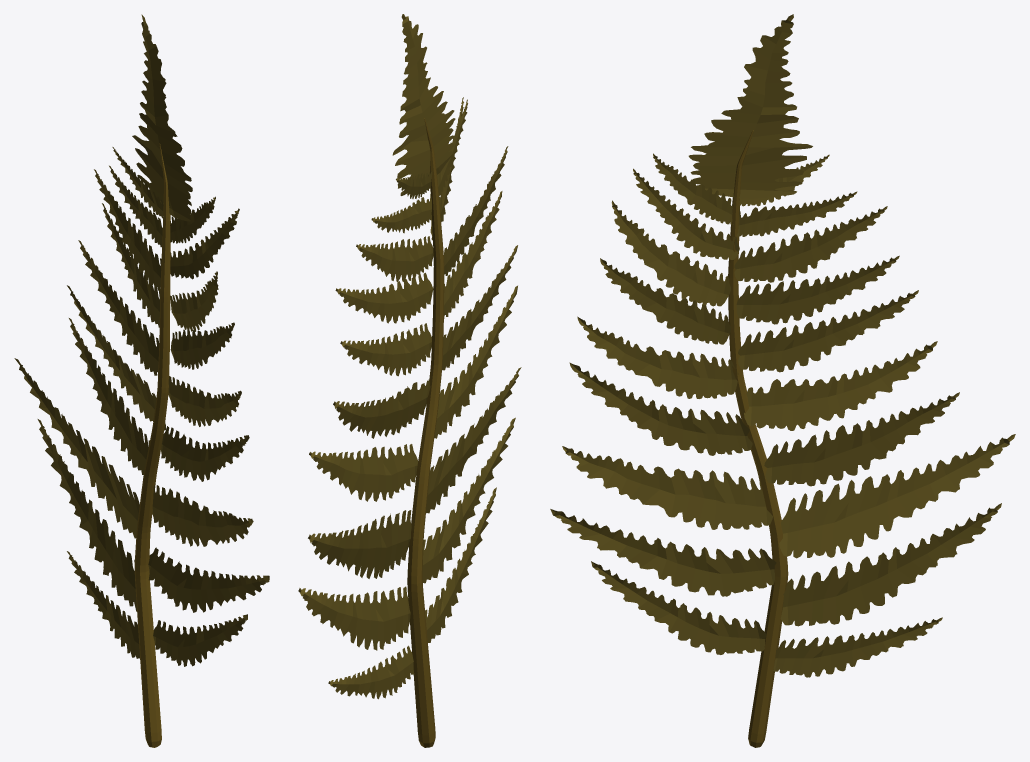
The model's file is fern_t.fbx.
The picture shows the model from 3 angles, left to right: view 1: azimuth 30°, elevation 25°; view 2: azimuth 150°, elevation 25°; view 3: azimuth 270°, elevation 25°; orthographic projection. The views are drawn at different scales.
Parts seen in each view (by area): view 1: Cube, Plane.017, Plane.002, Plane.006, Plane, Plane.001, Plane.003, Plane.008, Plane.019, Plane.009, Plane.007, Plane.004 (+9 smaller); view 2: Cube, Plane.017, Plane, Plane.002, Plane.003, Plane.006, Plane.004, Plane.001, Plane.009, Plane.010, Plane.008, Plane.011 (+9 smaller); view 3: Plane.017, Plane.002, Plane, Plane.001, Cube, Plane.006, Plane.003, Plane.004, Plane.008, Plane.009, Plane.007, Plane.019 (+9 smaller).
Part boxes in pixels (left/top/right/bottom): Cube: left=134, top=143, right=170, bottom=747; Plane.017: left=132, top=14, right=192, bottom=221; Plane.002: left=14, top=358, right=139, bottom=538; Plane.006: left=148, top=547, right=269, bottom=612; Plane: left=37, top=419, right=136, bottom=611; Plane.001: left=152, top=485, right=253, bottom=546; Plane.003: left=69, top=318, right=149, bottom=474; Plane.008: left=161, top=426, right=249, bottom=481; Plane.019: left=153, top=614, right=247, bottom=666; Plane.009: left=78, top=240, right=159, bottom=375; Plane.007: left=168, top=376, right=241, bottom=426; Plane.004: left=67, top=285, right=165, bottom=430; Cube: left=407, top=118, right=444, bottom=747; Plane.017: left=392, top=14, right=455, bottom=195; Plane: left=298, top=586, right=410, bottom=650; Plane.002: left=308, top=510, right=411, bottom=578; Plane.003: left=309, top=444, right=417, bottom=501; Plane.006: left=422, top=417, right=515, bottom=583; Plane.004: left=333, top=379, right=430, bottom=438; Plane.001: left=426, top=367, right=521, bottom=513; Plane.009: left=340, top=323, right=431, bottom=376; Plane.010: left=335, top=272, right=433, bottom=323; Plane.008: left=434, top=285, right=517, bottom=438; Plane.011: left=356, top=236, right=433, bottom=281; Plane.017: left=688, top=14, right=812, bottom=198; Plane.002: left=779, top=434, right=1015, bottom=558; Plane: left=780, top=503, right=1001, bottom=626; Plane.001: left=562, top=446, right=772, bottom=529; Cube: left=728, top=130, right=788, bottom=747; Plane.006: left=550, top=509, right=776, bottom=596; Plane.003: left=764, top=392, right=959, bottom=486; Plane.004: left=744, top=341, right=937, bottom=430; Plane.008: left=569, top=362, right=752, bottom=455; Plane.009: left=738, top=290, right=918, bottom=372; Plane.007: left=577, top=316, right=738, bottom=398; Plane.019: left=591, top=561, right=766, bottom=654.
Bounding box in the file's own units: 0.3884 × 6.86 × 3.94.
